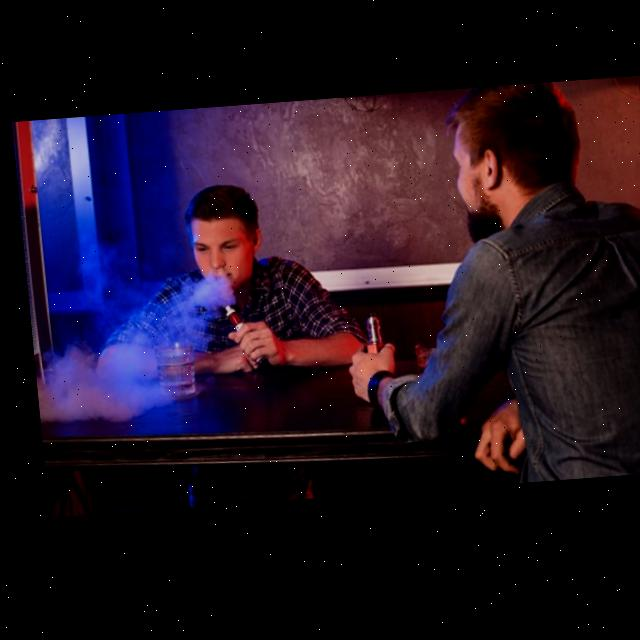vape: (357, 317, 375, 358), (219, 307, 238, 335)
